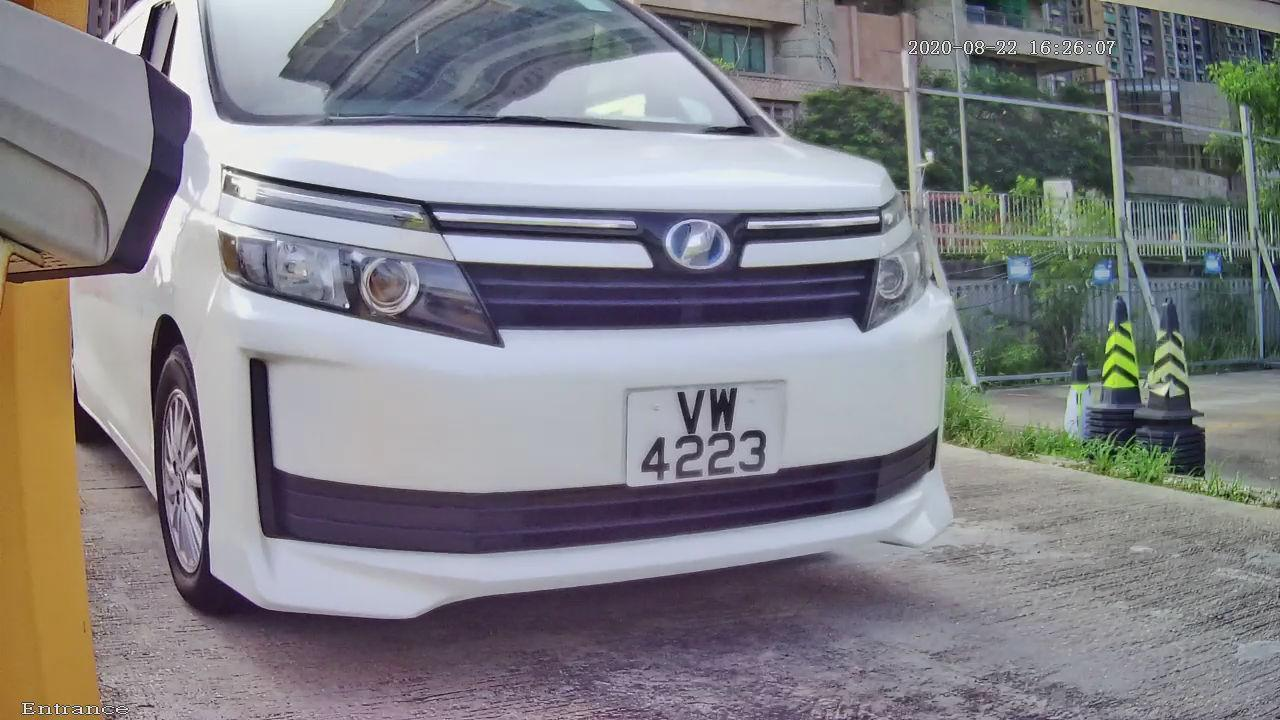Car: (18, 4, 1035, 656)
License Plate: (601, 373, 812, 499)
